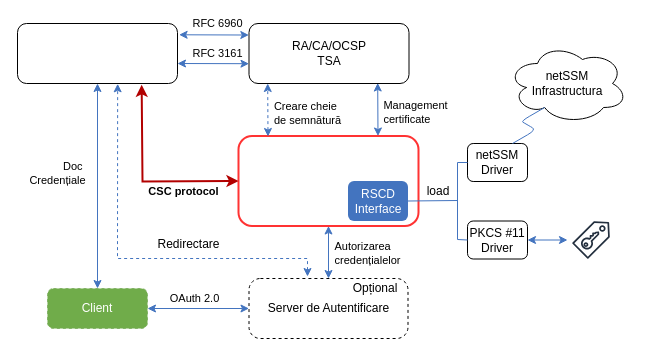
Image size: 645x356. Some labels were removed from this diagram. Here are the shapes that lost their labels. From the top down, the box of each, then its label:
(16, 22, 178, 84): Aplicația de Semnatură
(237, 134, 419, 226): RSSP
(566, 216, 614, 264): Token Criptografic
